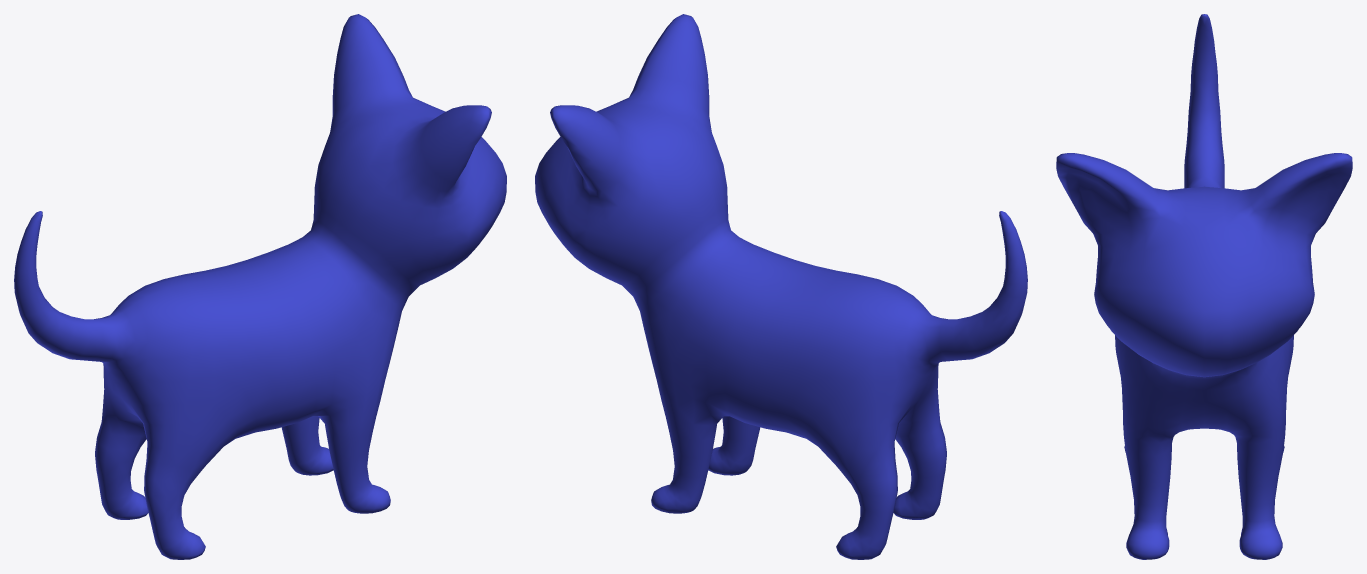
Rendered from cat.fbx.
The picture shows the model from 3 angles, left to right: view 1: azimuth 30°, elevation 25°; view 2: azimuth 150°, elevation 25°; view 3: azimuth 270°, elevation 25°; orthographic projection. The views are drawn at different scales.
Parts seen in each view (by area): view 1: root; view 2: root; view 3: root.
Boxes of the visible parts, x1,y1,x2,y2 form: root: (14,14,506,559); root: (535,14,1027,559); root: (1056,14,1352,559).
Bounding box in the file's own units: 0.192 × 0.1538 × 0.0937.
